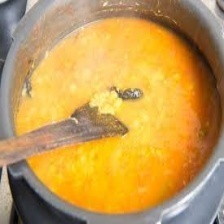dal: (11, 9, 223, 217)
